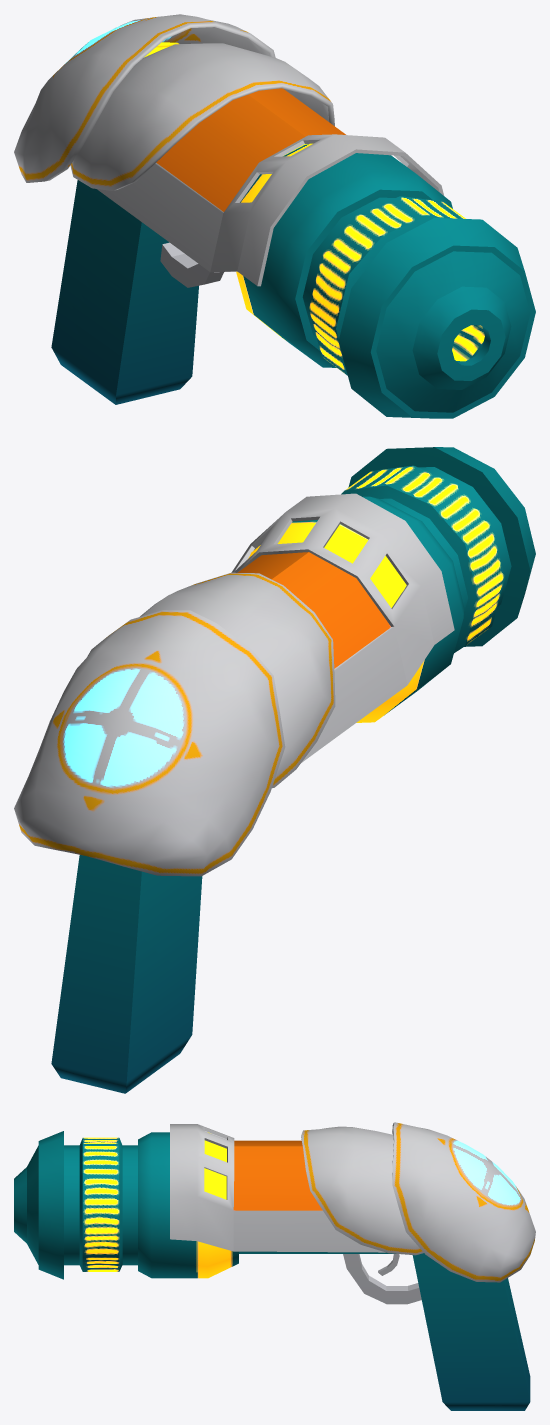
The model's file is Pistol_Final.fbx.
The picture shows the model from 3 angles, top to bottom: view 1: azimuth 30°, elevation 25°; view 2: azimuth 150°, elevation 25°; view 3: azimuth 270°, elevation 25°; orthographic projection. The views are drawn at different scales.
Parts seen in each view (by area): view 1: polySurface1, polySurface2, pCube1, pPlane2, pPlane1, pCube2; view 2: pPlane1, pCube1, polySurface2, polySurface1, pPlane2; view 3: polySurface1, polySurface2, pPlane1, pCube1, pPlane2, pCube2.
Part boxes in pixels (x1=…): polySurface1: x1=144, y1=42, x2=535, y2=418; polySurface2: x1=97, y1=88, x2=443, y2=286; pCube1: x1=51, y1=180, x2=198, y2=404; pPlane2: x1=70, y1=43, x2=334, y2=190; pPlane1: x1=14, y1=14, x2=275, y2=182; pCube2: x1=160, y1=242, x2=223, y2=287; pPlane1: x1=14, y1=610, x2=285, y2=876; pCube1: x1=51, y1=855, x2=202, y2=1093; polySurface2: x1=231, y1=493, x2=454, y2=762; polySurface1: x1=248, y1=447, x2=535, y2=722; pPlane2: x1=140, y1=572, x2=335, y2=788; polySurface1: x1=14, y1=1131, x2=424, y2=1279; polySurface2: x1=170, y1=1124, x2=385, y2=1252; pPlane1: x1=392, y1=1122, x2=535, y2=1282; pCube1: x1=412, y1=1254, x2=530, y2=1410; pPlane2: x1=301, y1=1126, x2=423, y2=1255; pCube2: x1=343, y1=1254, x2=421, y2=1304.
Size of the model in its own units: 0.9422 by 1.75 by 3.03.
Materials: 1 (1 with a texture image).
